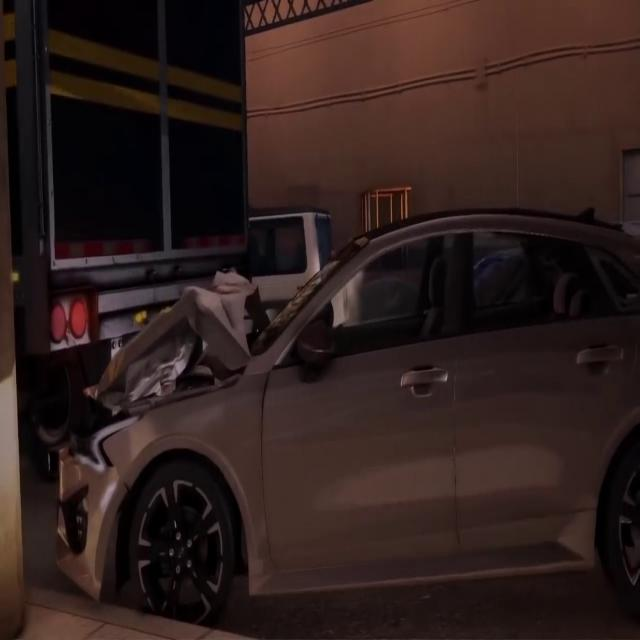accident: (9, 1, 640, 598)
